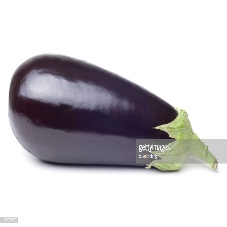eggplant: (6, 53, 195, 178)
